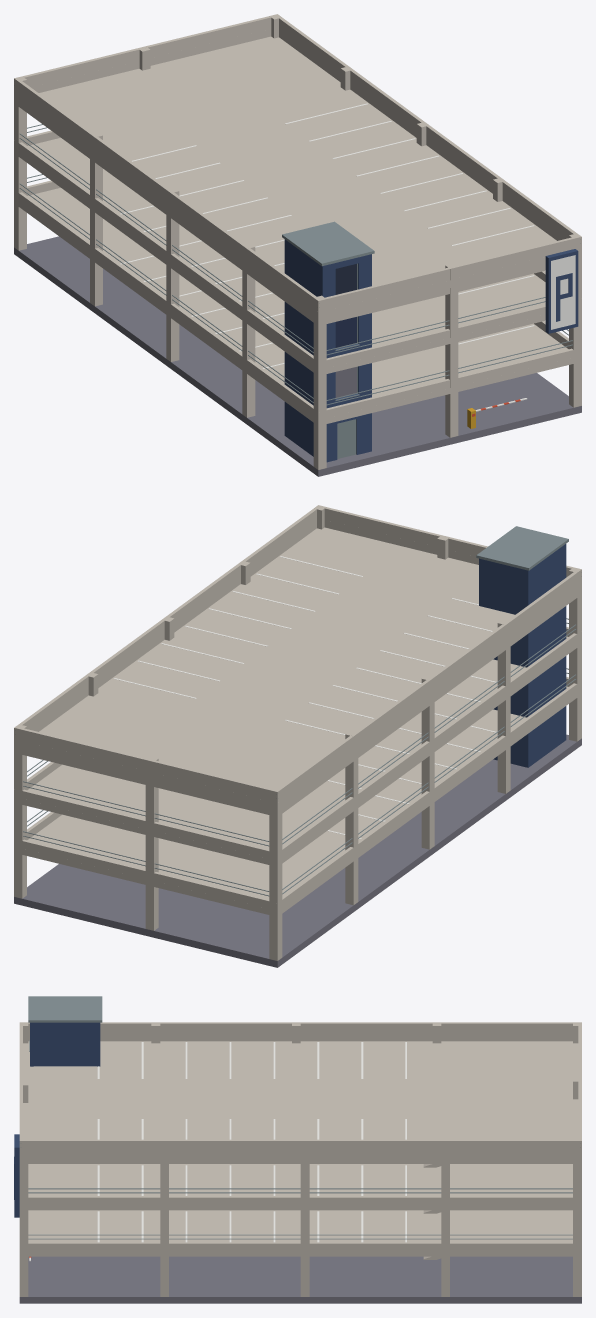
Rendered from tb_parking_garage_3f_01.fbx.
3 renders of one model, top to bottom at view 1: azimuth 30°, elevation 25°; view 2: azimuth 150°, elevation 25°; view 3: azimuth 270°, elevation 25°, orthographic. The views are drawn at different scales.
Parts seen in each view (by area): view 1: tb_parking_garage_3f_01; view 2: tb_parking_garage_3f_01; view 3: tb_parking_garage_3f_01.
Part boxes in pixels (<box>): tb_parking_garage_3f_01: <box>14,14,581,476</box>; tb_parking_garage_3f_01: <box>14,505,581,967</box>; tb_parking_garage_3f_01: <box>14,996,581,1303</box>.
Size of what is drawn, in the model's own units: 16.01 by 12.05 by 32.32.
Materials: 2 (2 with a texture image).
